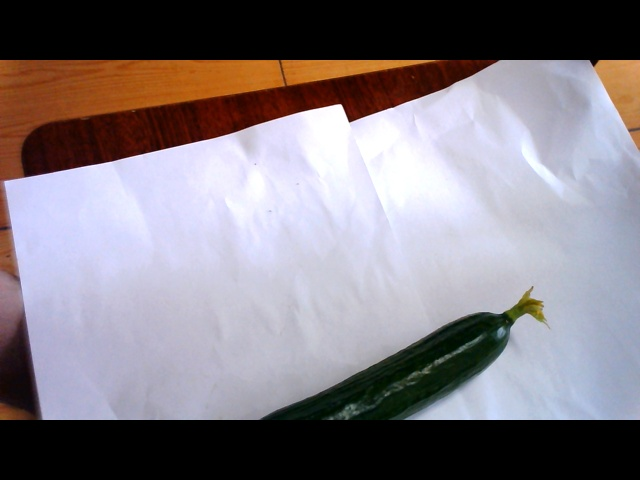cucumber: (244, 294, 533, 419)
